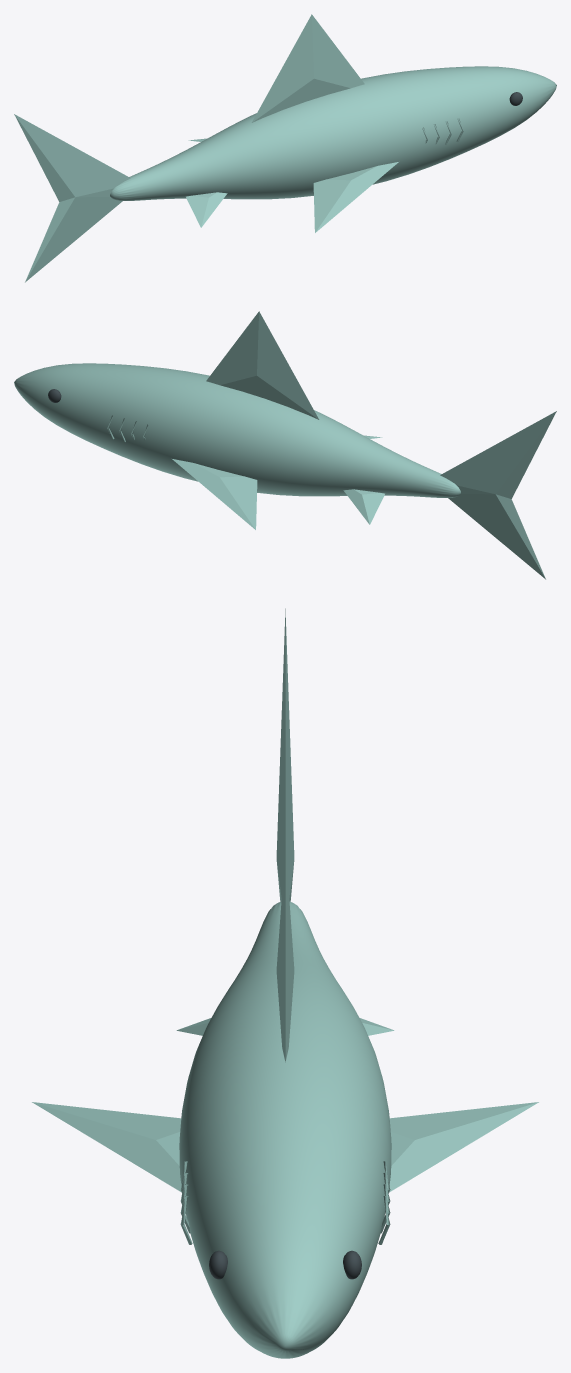
3 views of the same model, one above another, from view 1: azimuth 30°, elevation 25°; view 2: azimuth 150°, elevation 25°; view 3: azimuth 270°, elevation 25° (orthographic). The views are drawn at different scales.
Parts seen in each view (by area): view 1: Body, Tail, Dorsal, Pectoral, Pelvic; view 2: Body, Tail, Dorsal, Pectoral.001, Pelvic.001; view 3: Body, Pectoral.001, Pectoral, Tail, Dorsal.
Part boxes in pixels (x1,y1,x2,y2): Body: (110,66,556,200); Tail: (14,114,130,282); Dorsal: (251,14,364,122); Pectoral: (313,162,398,232); Pelvic: (186,192,227,227); Body: (14,363,460,497); Tail: (440,411,556,579); Dorsal: (206,311,319,419); Pectoral.001: (172,459,257,529); Pelvic.001: (343,489,384,524); Body: (179,901,391,1358); Pectoral.001: (389,1102,538,1192); Pectoral: (32,1102,181,1192); Tail: (276,608,294,901); Dorsal: (276,845,294,1062).
Size of the model in its own units: 252 by 88 by 102.
